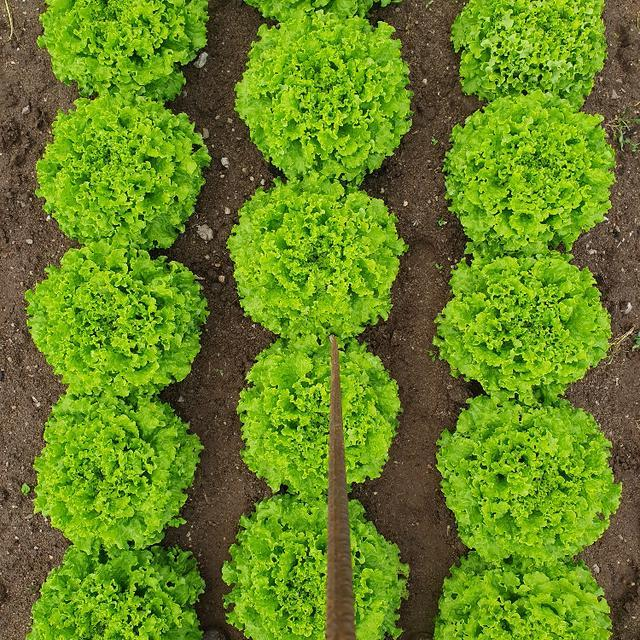Lettuce: (430, 392, 627, 566), (235, 7, 418, 185), (437, 90, 620, 253), (23, 240, 210, 398), (218, 490, 412, 640), (35, 92, 213, 255), (32, 390, 205, 557), (232, 180, 405, 340), (430, 250, 615, 398), (237, 338, 403, 495), (428, 545, 620, 640), (28, 541, 209, 640), (455, 0, 613, 111), (32, 0, 216, 95)
